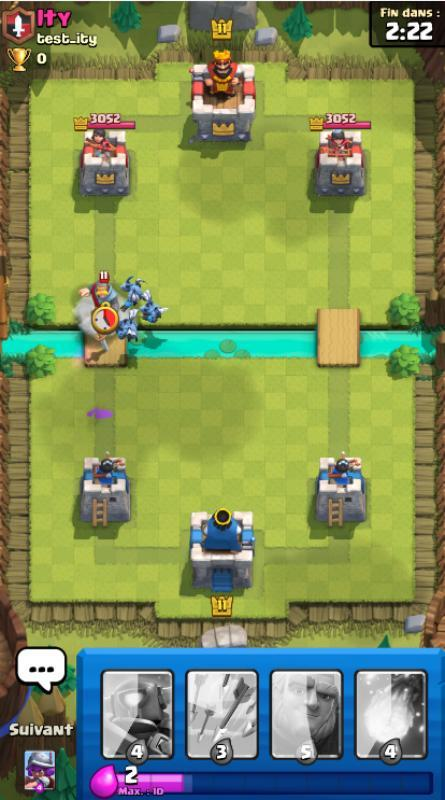chevalier: (79, 270, 120, 313)
gargouille: (119, 274, 147, 312), (140, 289, 170, 323), (116, 308, 139, 343)
